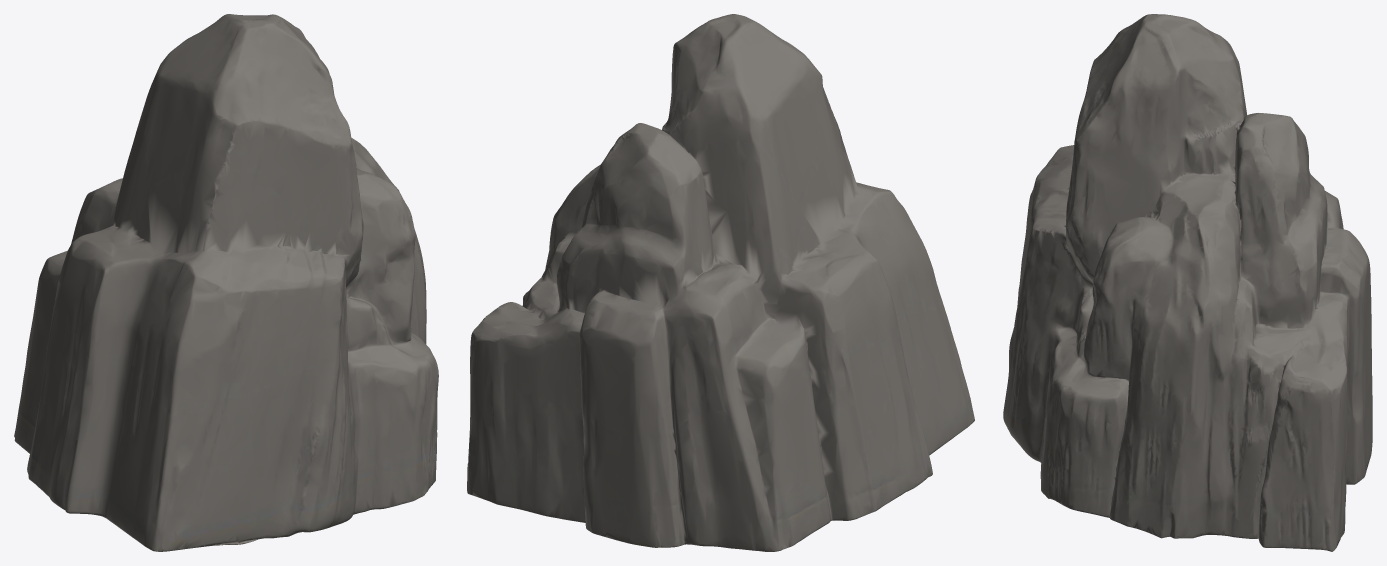
The model's file is rock-formation.glb.
3 views of the same model, side by side, from view 1: azimuth 30°, elevation 25°; view 2: azimuth 150°, elevation 25°; view 3: azimuth 270°, elevation 25° (orthographic). The views are drawn at different scales.
Visible parts, largest first — view 1: tripo_node_b0bb3fe6-73bf-47ab-8c18-58baaf9ce8f5; view 2: tripo_node_b0bb3fe6-73bf-47ab-8c18-58baaf9ce8f5; view 3: tripo_node_b0bb3fe6-73bf-47ab-8c18-58baaf9ce8f5.
Part boxes in pixels (x1,y1,x2,y2): tripo_node_b0bb3fe6-73bf-47ab-8c18-58baaf9ce8f5: (14, 14, 438, 551); tripo_node_b0bb3fe6-73bf-47ab-8c18-58baaf9ce8f5: (467, 14, 974, 551); tripo_node_b0bb3fe6-73bf-47ab-8c18-58baaf9ce8f5: (1003, 14, 1372, 551).
Bounding box in the file's own units: 0.8404 × 0.9821 × 0.7368.
Materials: 1 (1 with a texture image).
